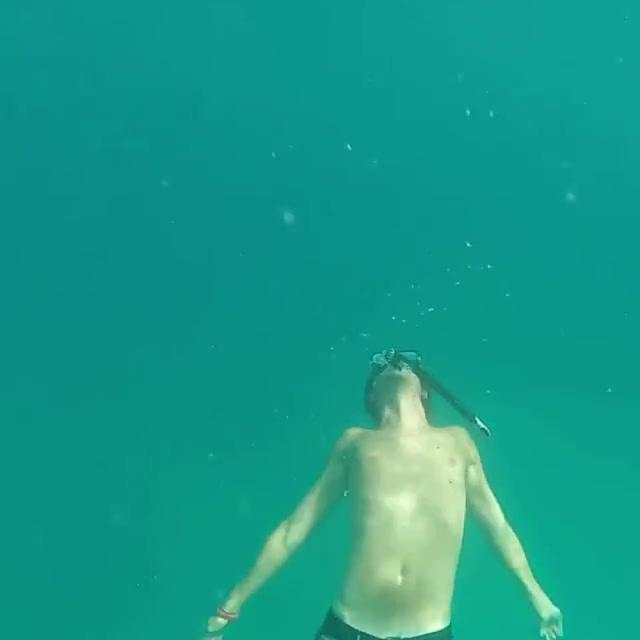human: (202, 340, 568, 640)
